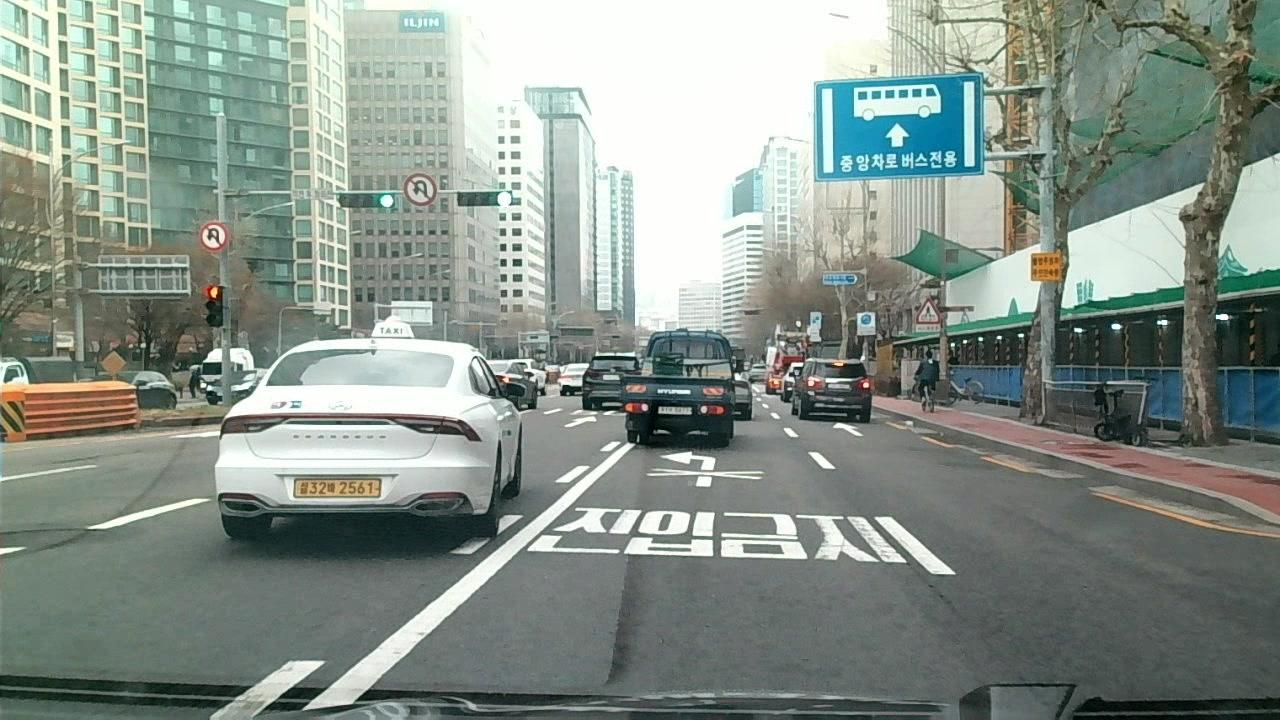vcrack: (597, 552, 635, 682), (905, 557, 970, 625)
